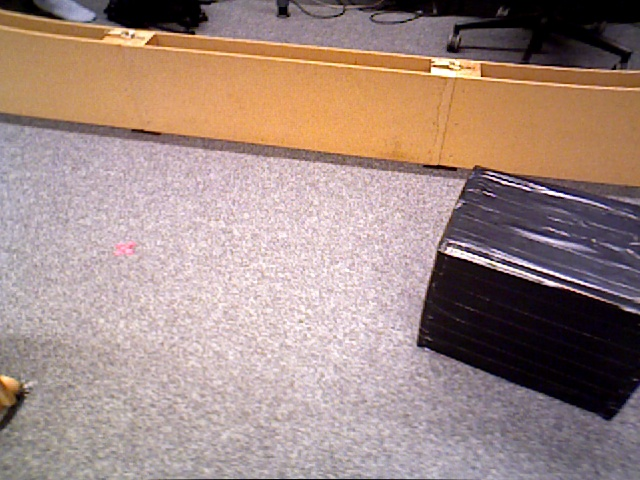push: (418, 170, 640, 400)
